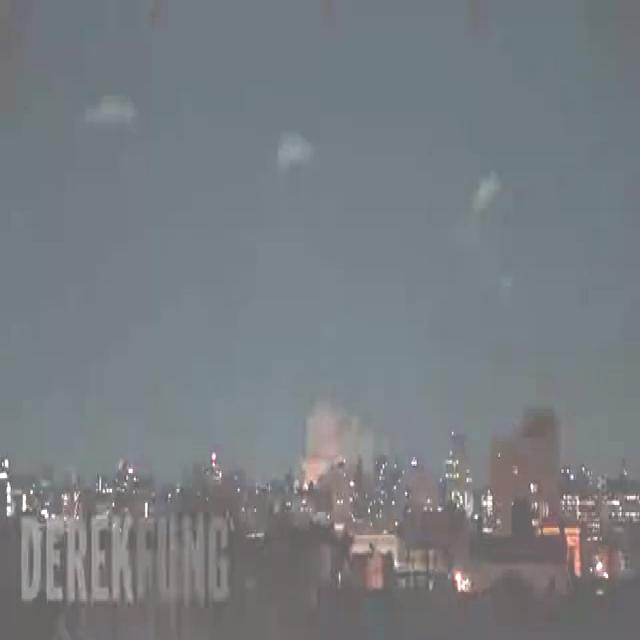smoke: (298, 382, 386, 482)
